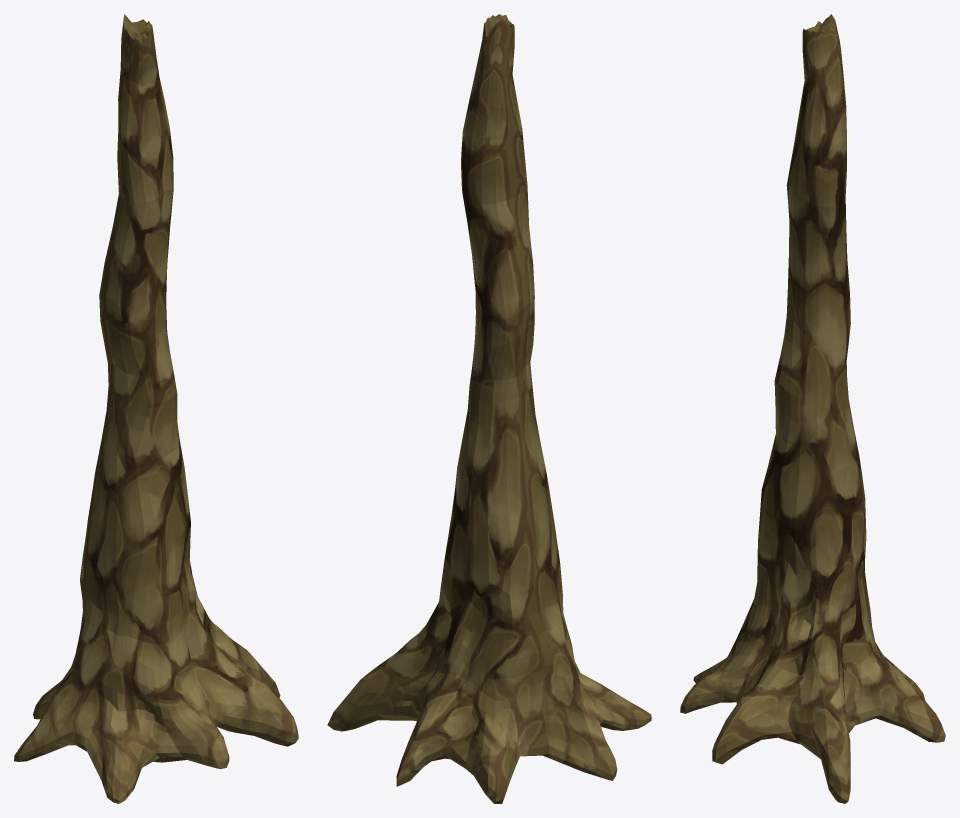
The model's file is treeBaseStraight.fbx.
3 views of the same model, side by side, from view 1: azimuth 30°, elevation 25°; view 2: azimuth 150°, elevation 25°; view 3: azimuth 270°, elevation 25° (orthographic). The views are drawn at different scales.
Parts seen in each view (by area): view 1: pCylinder1; view 2: pCylinder1; view 3: pCylinder1.
Boxes of the visible parts, box(x1,y1,x2,y2) form: pCylinder1: box(14, 14, 298, 803); pCylinder1: box(327, 14, 651, 803); pCylinder1: box(680, 14, 945, 803).
Bounding box in the file's own units: 556 × 1431 × 481.
1 material, 1 textured.
